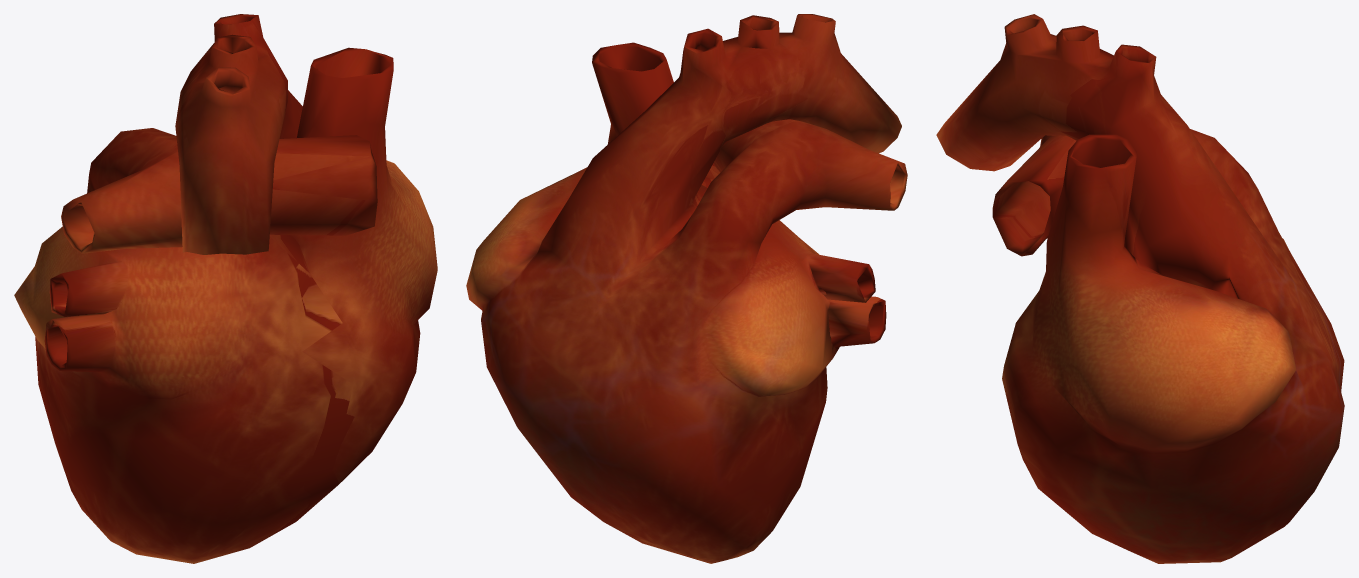
Rendered from heart01.fbx.
3 renders of one model, left to right at view 1: azimuth 30°, elevation 25°; view 2: azimuth 150°, elevation 25°; view 3: azimuth 270°, elevation 25°, orthographic. The views are drawn at different scales.
Visible parts, largest first — view 1: (null); view 2: (null); view 3: (null).
Part boxes in pixels (left/top/right/bottom): (null): left=14, top=14, right=437, bottom=563; (null): left=466, top=14, right=907, bottom=563; (null): left=936, top=14, right=1344, bottom=563.
Bounding box in the file's own units: 12.43 × 16.27 × 11.55.
